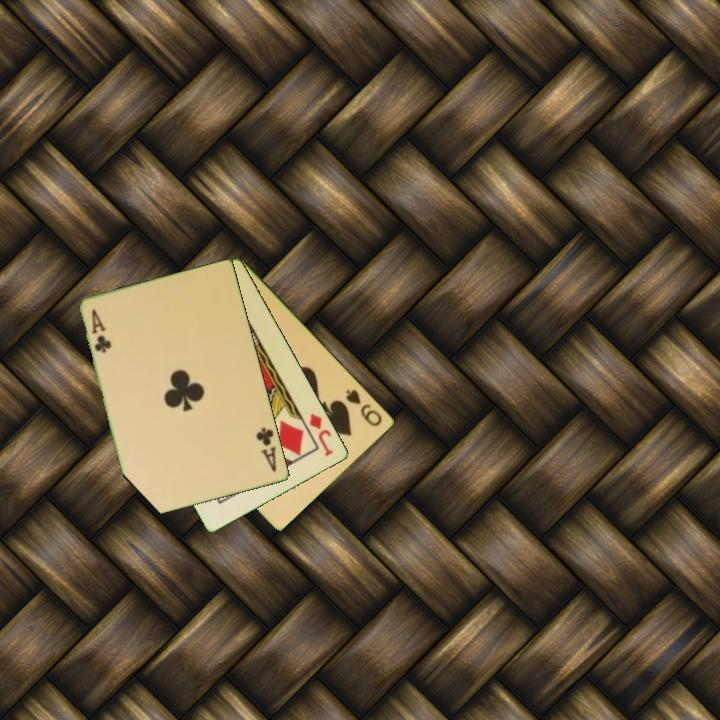9s: (343, 386, 386, 429)
Ac: (253, 424, 280, 475), (88, 306, 115, 356)
Jd: (306, 410, 337, 459)
